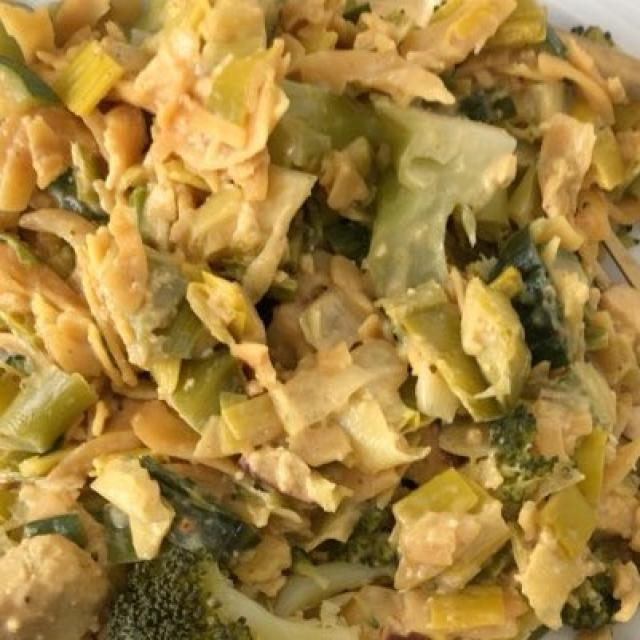broccoli: (102, 556, 266, 631)
pasta: (20, 0, 626, 612)
